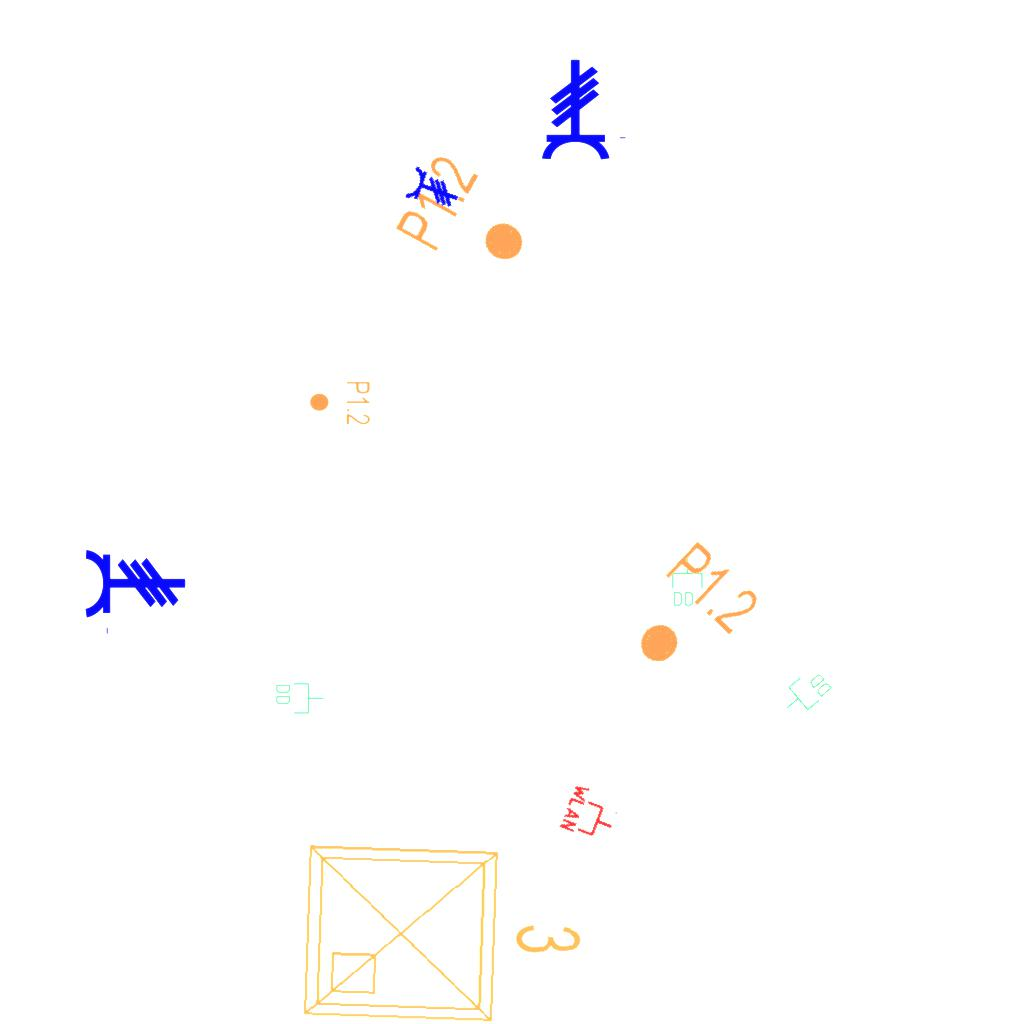CEE_Drehstrom_Steckdose_16_32_A: (539, 58, 629, 162), (83, 547, 187, 637), (400, 163, 465, 225)
Datenanschluss_zweifach: (775, 663, 836, 723), (670, 557, 704, 608), (274, 681, 325, 715)
Downlight_LED_Einbauleuchten_Flur: (610, 535, 767, 693), (389, 148, 548, 292), (308, 380, 372, 426)
Einbaudownlights_LED_Konferenzraeume: (288, 821, 596, 1024)
WLAN: (557, 780, 625, 848)
